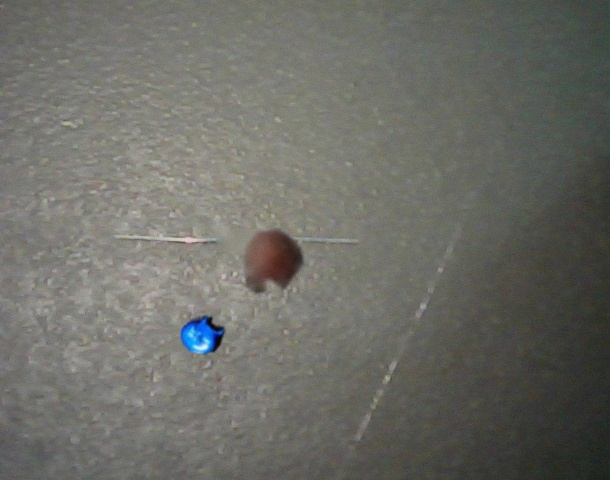capacitor: (242, 229, 304, 294), (180, 315, 225, 355)
